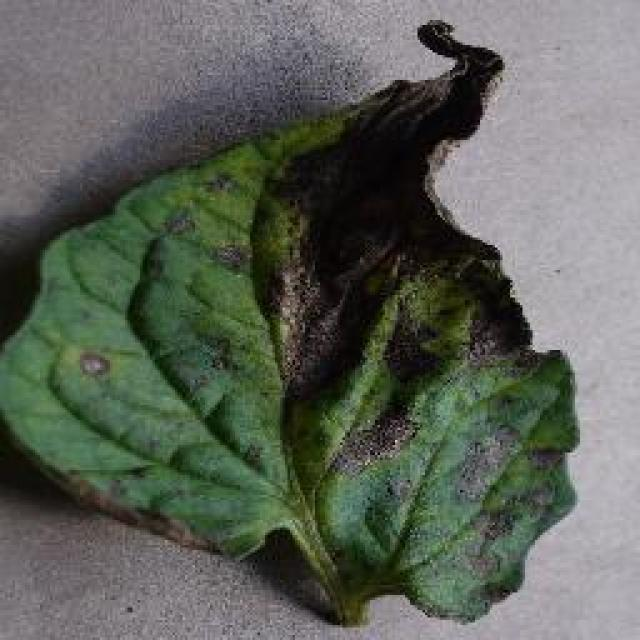Tomato Early blight leaf: (0, 17, 580, 630)
